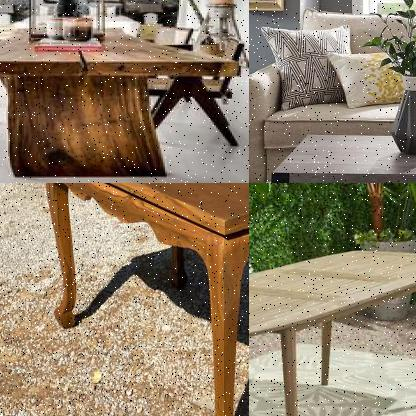table: (39, 183, 248, 415), (0, 18, 247, 179), (249, 243, 415, 415), (264, 129, 415, 182)
